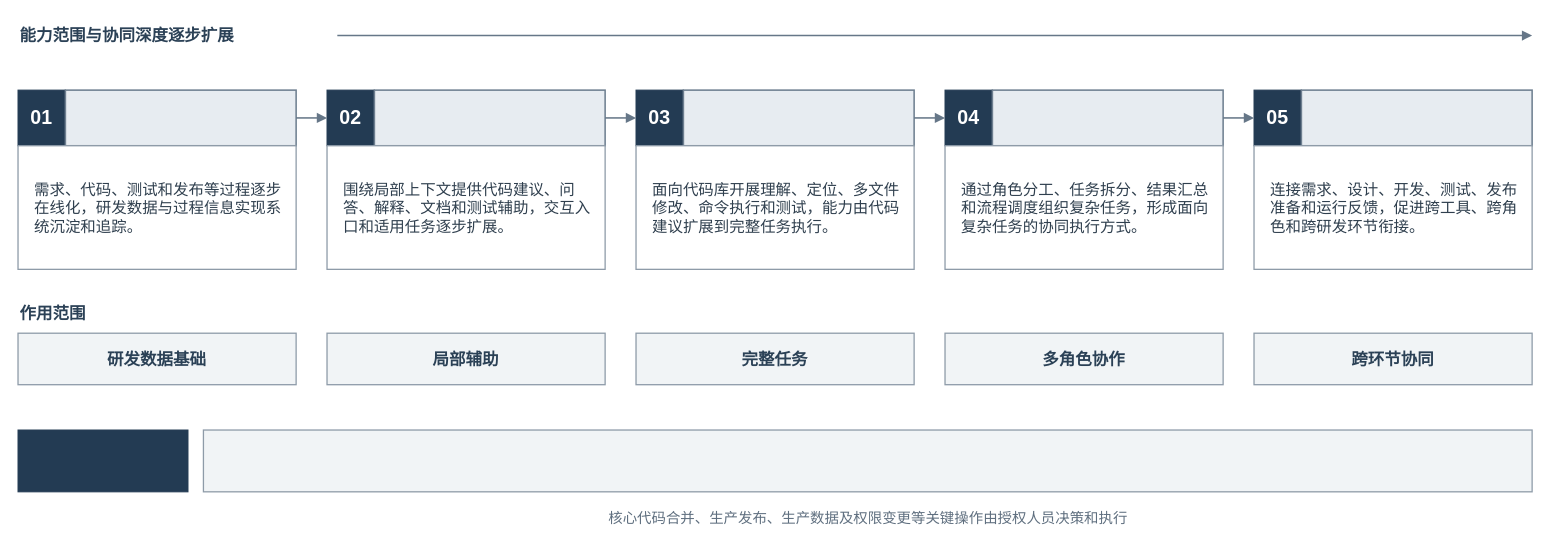
The diagram is 1559 pixels wide and 552 high, and some of its shapes have lost their labels. The box of each missing label's shape, as (x1, y1, x2, y2) in pixels:
人工责任: (17, 429, 188, 492)
代码生成与交互式辅助: (373, 89, 605, 146)
多智能体协同: (991, 89, 1223, 146)
目标确认 ｜ 规则设定 ｜ 结果审查 ｜ 关键审批 ｜ 异常处置: (202, 429, 1532, 492)
研发流程协同: (1300, 89, 1532, 146)
研发流程平台化: (64, 89, 296, 146)
软件工程任务执行: (682, 89, 914, 146)
